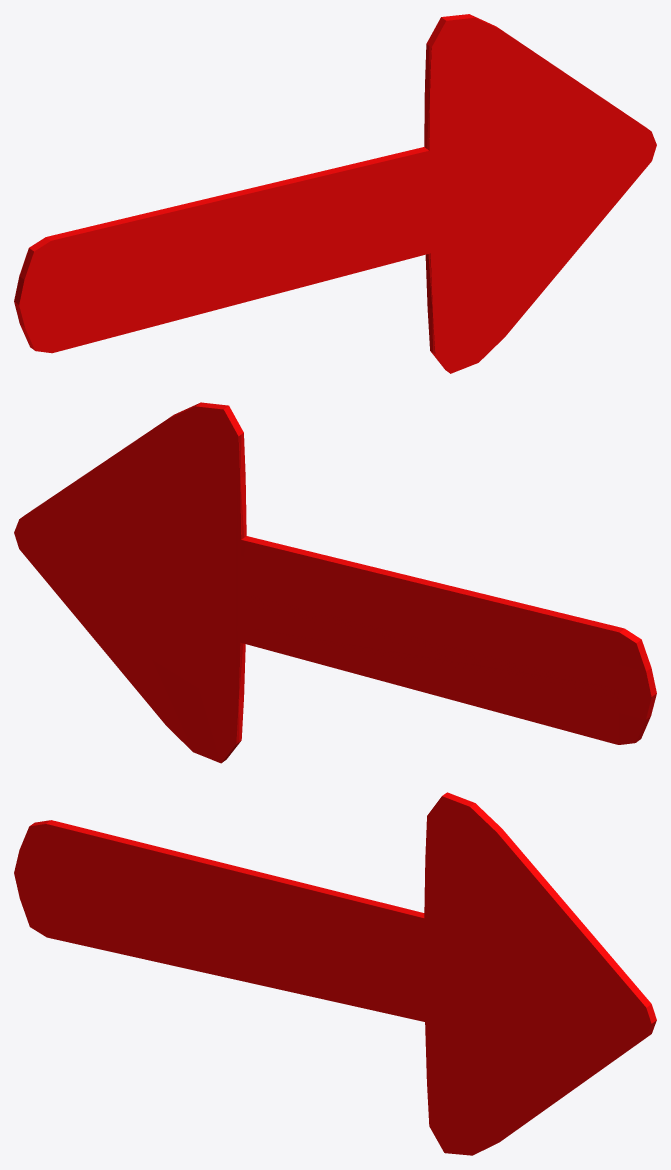
Rendered from AST_arrow.fbx.
3 renders of one model, top to bottom at view 1: azimuth 30°, elevation 25°; view 2: azimuth 150°, elevation 25°; view 3: azimuth 330°, elevation 25°, orthographic.
Parts seen in each view (by area): view 1: polySurface133; view 2: polySurface133; view 3: polySurface133.
Boxes of the visible parts, bbox=[...] form: polySurface133: bbox=[14, 14, 656, 373]; polySurface133: bbox=[14, 402, 656, 763]; polySurface133: bbox=[14, 792, 656, 1155].
Size of the model in its own units: 57.77 by 30.68 by 1.18.
